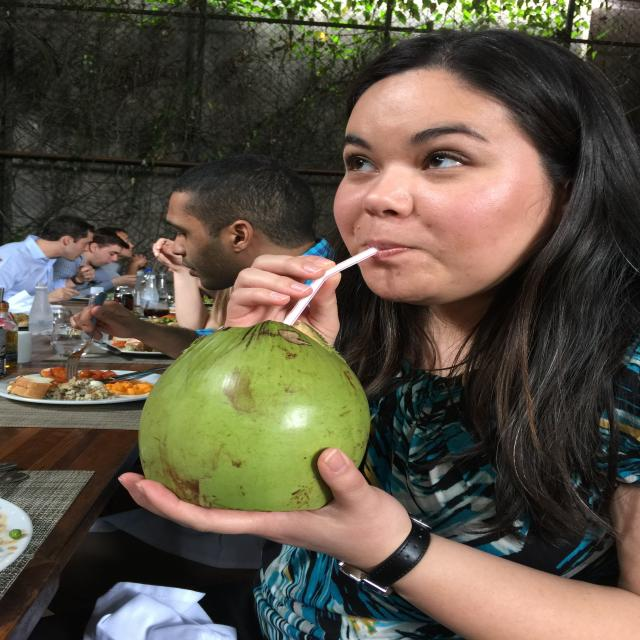body: (97, 22, 640, 640), (22, 154, 332, 640), (139, 234, 231, 335), (0, 214, 97, 304), (50, 226, 139, 300), (95, 226, 150, 289), (0, 256, 6, 262)
